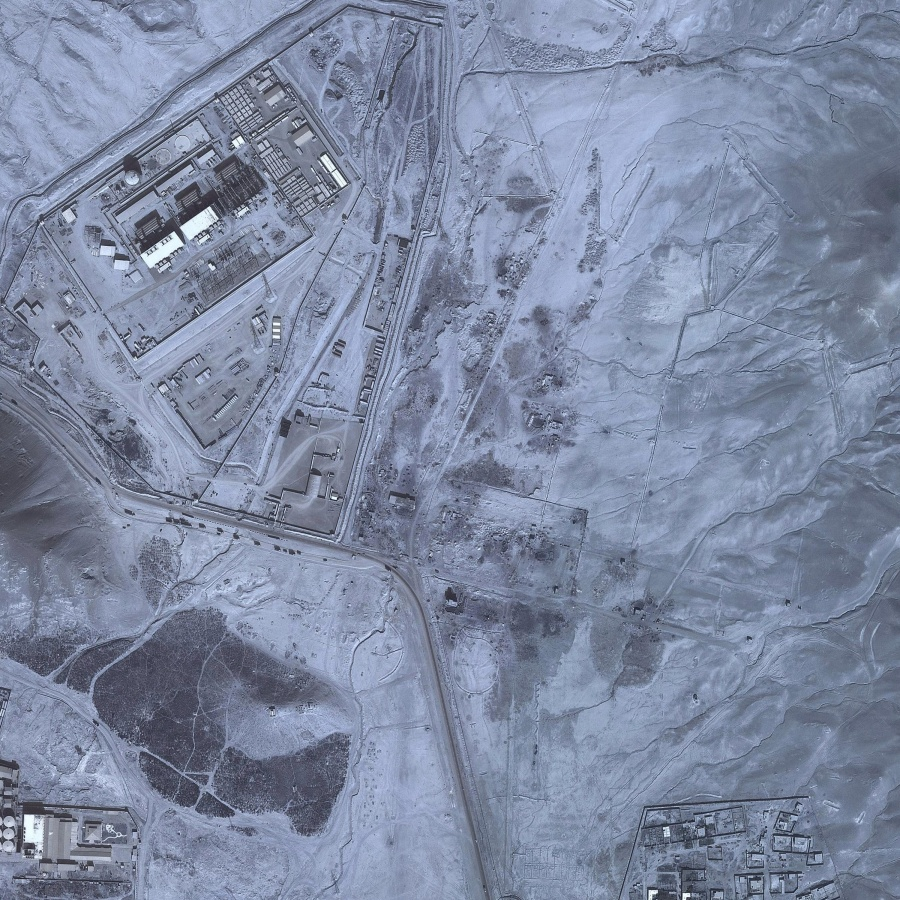PowerPlant: (98, 88, 347, 272)
